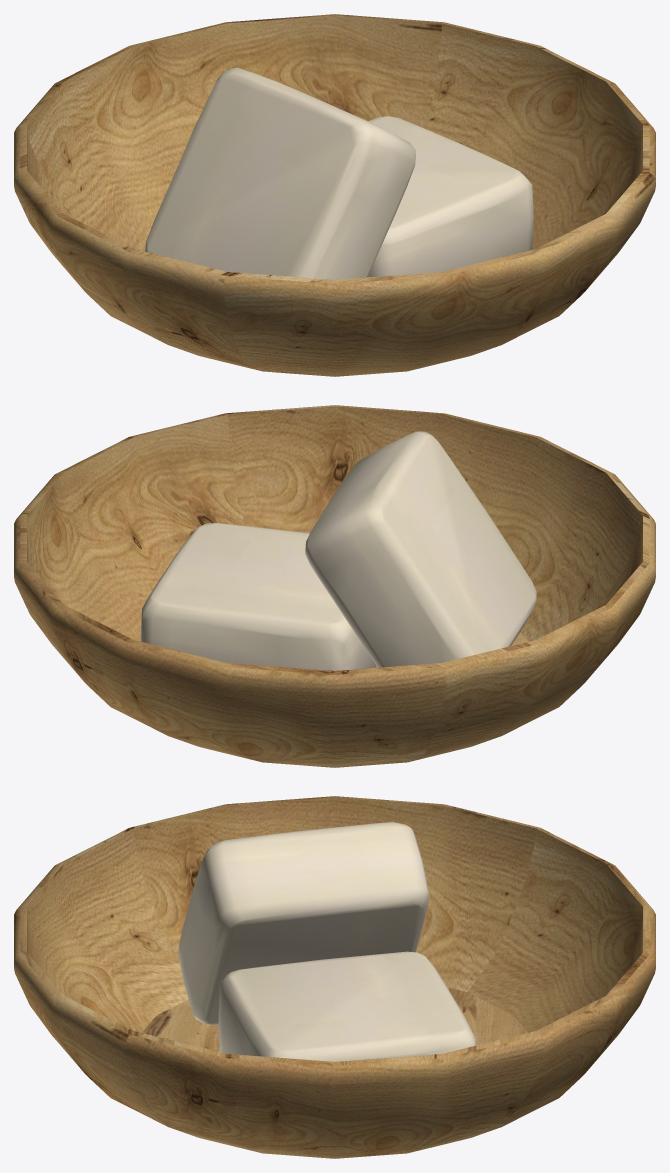
Rendered from Soaps.FBX.
3 views of the same model, one above another, from view 1: azimuth 30°, elevation 25°; view 2: azimuth 150°, elevation 25°; view 3: azimuth 270°, elevation 25° (orthographic).
Visible parts, largest first — view 1: Soaps; view 2: Soaps; view 3: Soaps.
Boxes of the visible parts, left/top/right/bottom form: Soaps: left=14, top=14, right=655, bottom=376; Soaps: left=14, top=405, right=655, bottom=767; Soaps: left=14, top=796, right=655, bottom=1158.
Size of the model in its own units: 15.99 by 5.78 by 15.75.
2 materials, 2 textured.
